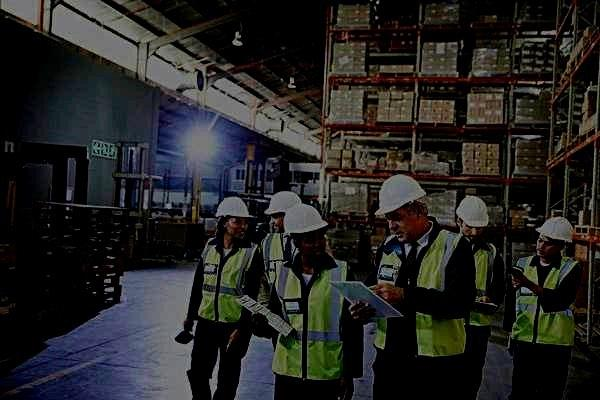helmet: (375, 173, 429, 242), (280, 204, 329, 257), (214, 196, 254, 241), (264, 191, 302, 233), (456, 194, 490, 240), (535, 216, 573, 256)
